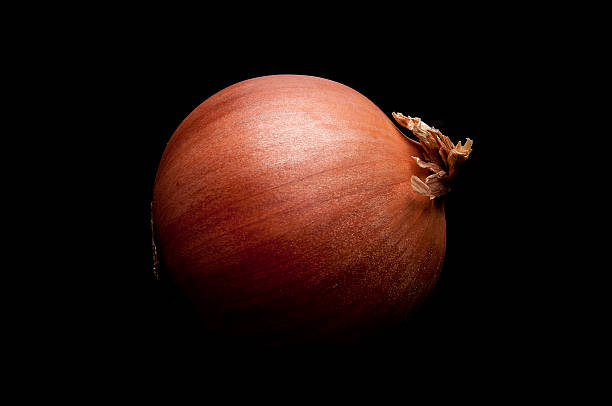onion: (123, 42, 481, 389)
